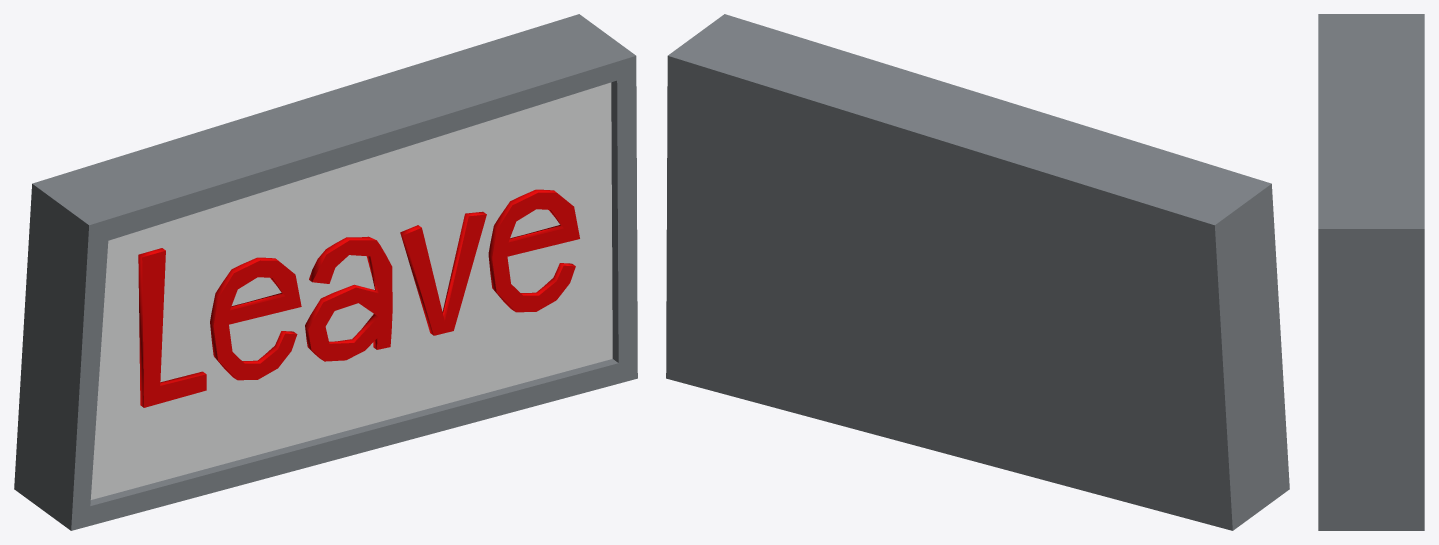
File: SM_ExitSign.fbx
3 views of the same model, side by side, from view 1: azimuth 30°, elevation 25°; view 2: azimuth 150°, elevation 25°; view 3: azimuth 270°, elevation 25° (orthographic). The views are drawn at different scales.
Visible parts, largest first — view 1: SM_ExitSign; view 2: SM_ExitSign; view 3: SM_ExitSign.
Boxes of the visible parts, box(x1,y1,x2,y2) form: SM_ExitSign: box(14, 14, 637, 530); SM_ExitSign: box(666, 14, 1289, 530); SM_ExitSign: box(1318, 14, 1424, 530).
Size of the model in its own units: 2.07 by 0.36 by 1.18.
